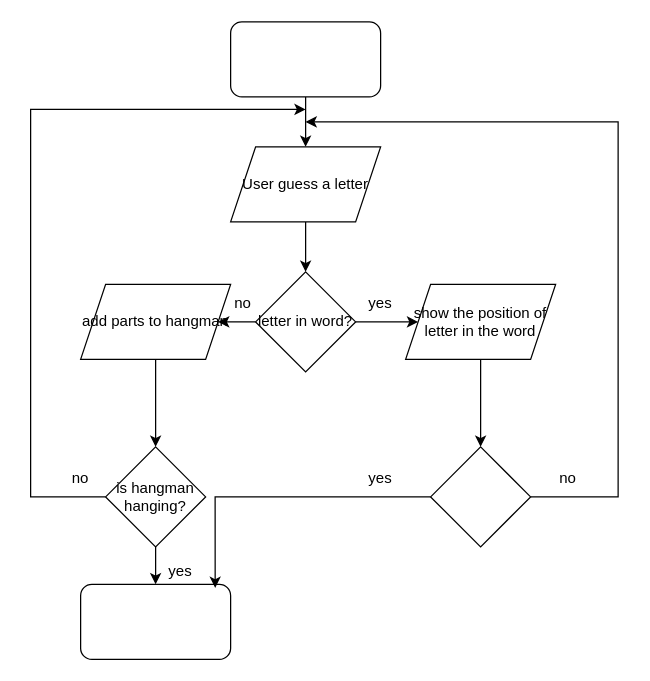
The diagram is 650 pixels wide and 681 high, and some of its shapes have lost their labels. The shapes that lost their labels are listed below. From the top down, each one's centre as x and y in pixels, then its label:
pixel 305 59: start
pixel 480 496: word found?
pixel 155 621: END
